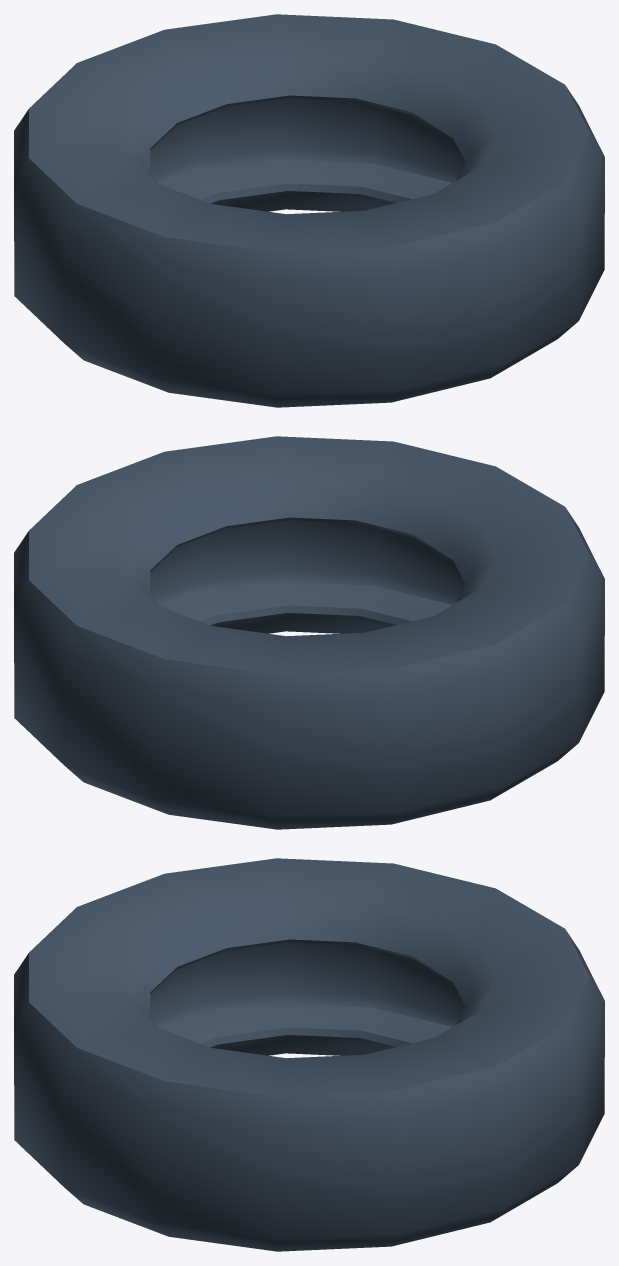
Rendered from SM_Wheel.FBX.
3 renders of one model, top to bottom at view 1: azimuth 30°, elevation 25°; view 2: azimuth 150°, elevation 25°; view 3: azimuth 270°, elevation 25°, orthographic.
Visible parts, largest first — view 1: Torus001; view 2: Torus001; view 3: Torus001.
Part boxes in pixels (x1,y1,x2,y2): Torus001: (14,14,604,407); Torus001: (14,436,604,829); Torus001: (14,858,604,1251).
Bounding box in the file's own units: 128 × 37.57 × 127.
1 material, 1 textured.
